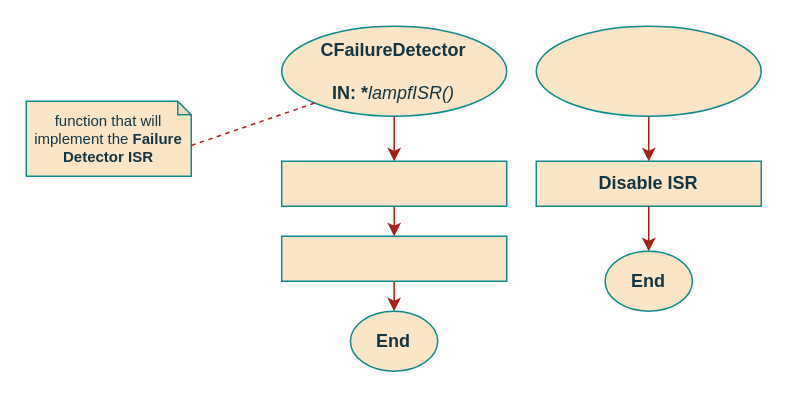
The diagram is 788 pixels wide and 398 high, and some of its shapes have lost their labels. Each missing label, with the box of its shape:
isr <- pirISR (): (280, 160, 507, 206)
Set ISR to * lampfISR(): (280, 235, 507, 281)
~CFailureDetector: (535, 25, 761, 116)
